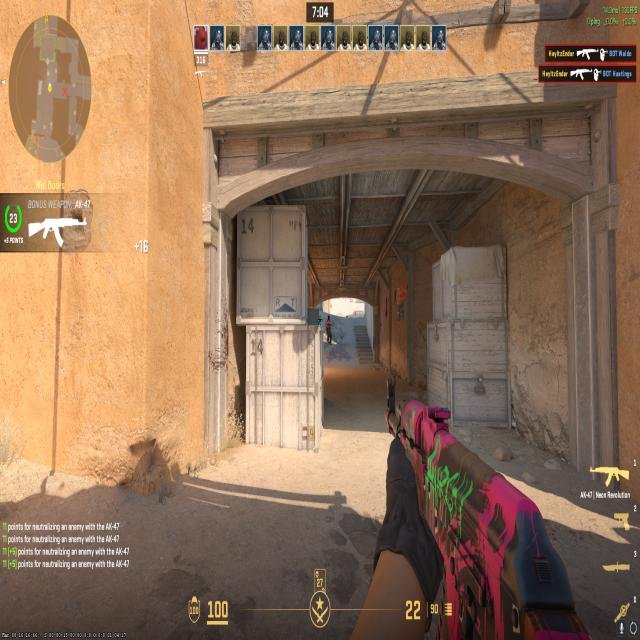t: (322, 312, 333, 346)
